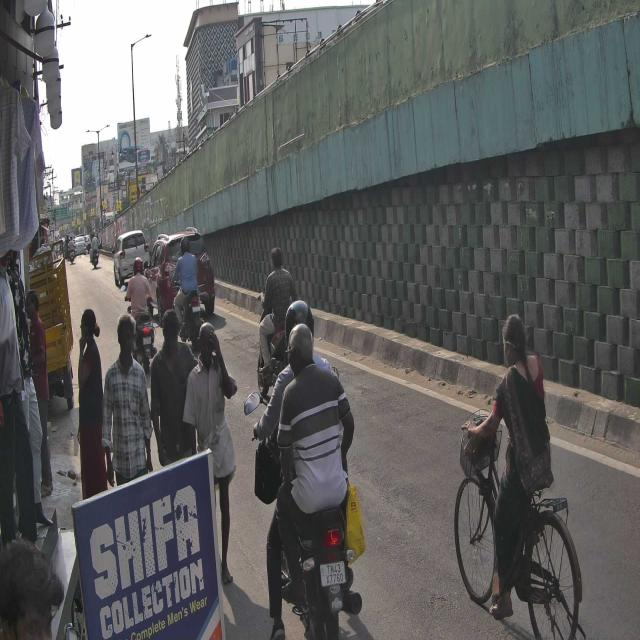double_rider: (254, 295, 368, 640)
